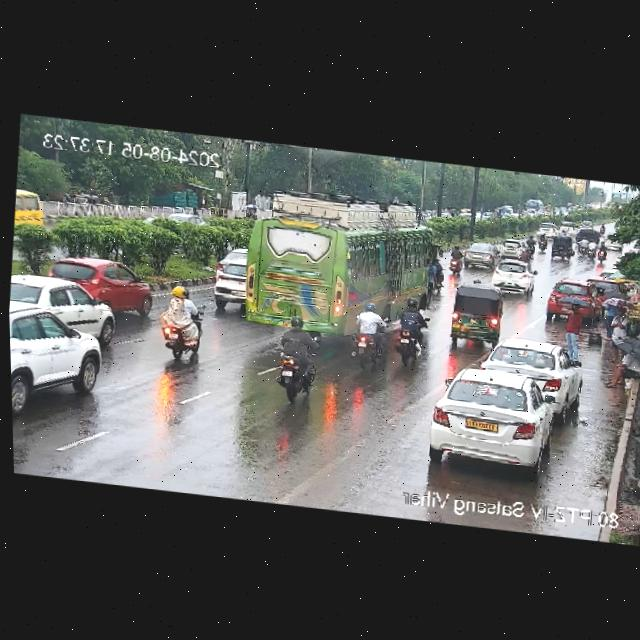bus: (228, 181, 452, 351), (13, 187, 53, 234), (521, 197, 542, 217)
car: (425, 361, 559, 470), (9, 302, 111, 417), (40, 250, 159, 319), (9, 268, 120, 337), (479, 334, 584, 403), (446, 282, 510, 348), (543, 277, 599, 318), (487, 259, 537, 297), (603, 348, 640, 392), (560, 303, 586, 362), (217, 263, 246, 308), (606, 308, 628, 362), (216, 243, 250, 277), (465, 239, 498, 267), (460, 248, 498, 270), (548, 232, 574, 263), (598, 297, 616, 338), (499, 238, 523, 259)
motorcycle: (254, 324, 321, 404), (158, 283, 214, 364), (344, 302, 393, 368), (390, 302, 436, 368), (571, 222, 601, 255), (446, 245, 465, 274), (587, 236, 598, 261), (597, 240, 608, 262), (526, 235, 537, 257), (538, 231, 549, 252), (578, 234, 589, 254)
